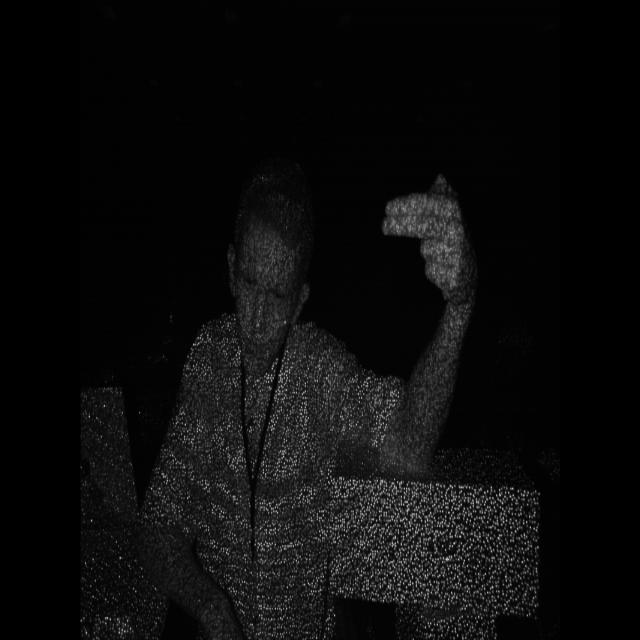H: (375, 160, 480, 305)
